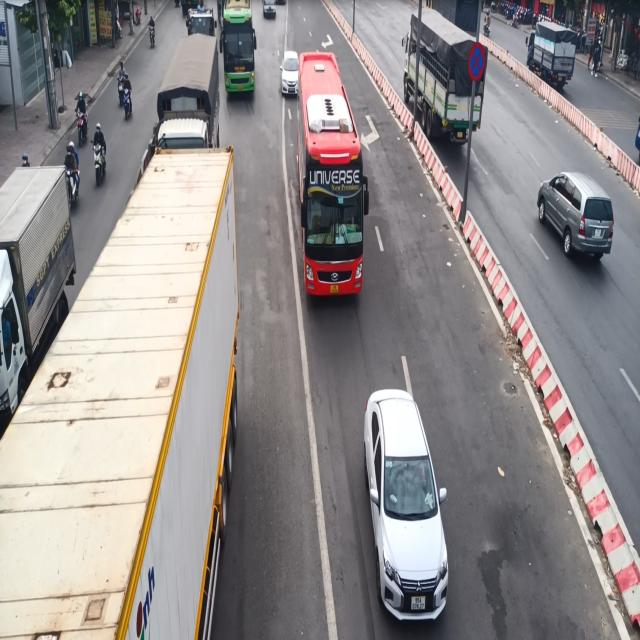bus: (295, 55, 373, 306), (217, 0, 259, 112)
motor: (88, 124, 110, 196), (75, 83, 91, 141), (146, 9, 156, 51)
